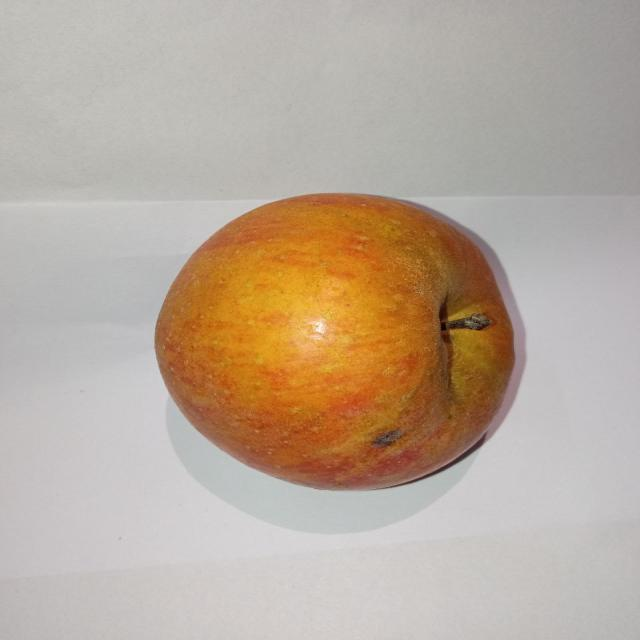fresh_apple: (149, 192, 522, 490)
